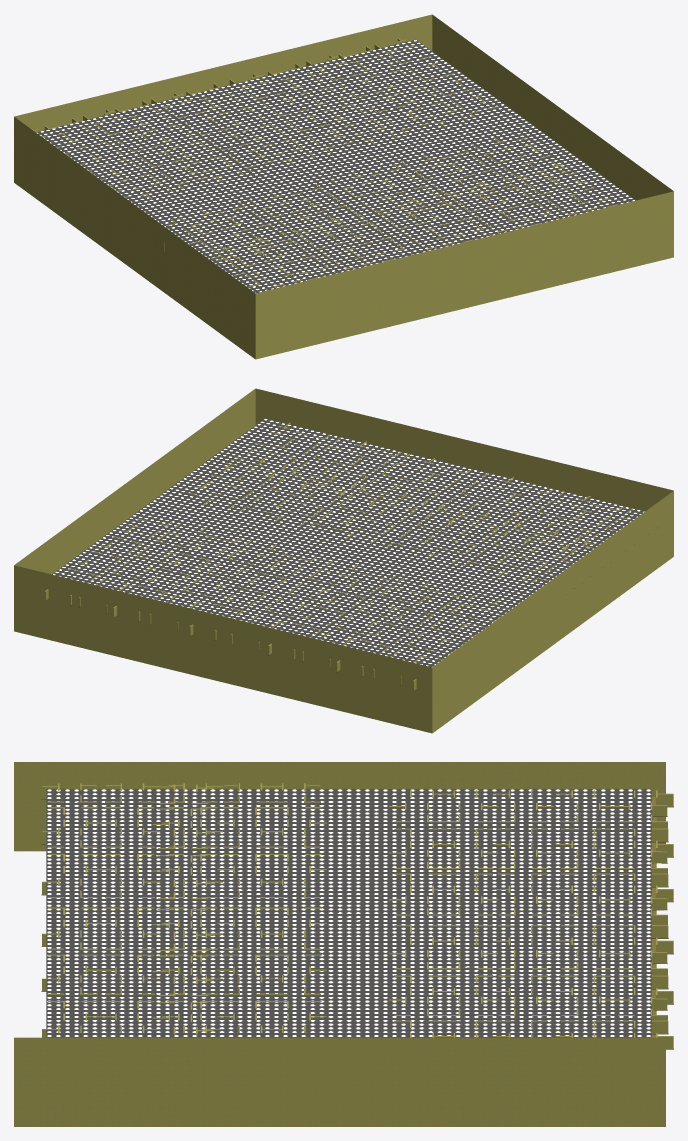
The model's file is roomlevel0.glb.
The picture shows the model from 3 angles, top to bottom: view 1: azimuth 30°, elevation 25°; view 2: azimuth 150°, elevation 25°; view 3: azimuth 270°, elevation 25°; orthographic projection. The views are drawn at different scales.
Parts seen in each view (by area): view 1: Plane.002_1, Cube_9, Cube.007_10, Cube.009_12, Cube.004_6, Cube.005_7, Cube.002_4, Cube.008_11, Cube.003_5, Cube.011_13, Cube.006_8, Cube.012_14 (+1 smaller); view 2: Plane.002_1, Cube_9, Cube.009_12, Cube.001_3, Cube.002_4, Cube.008_11, Cube.011_13, Cube.004_6, Cube.005_7, Cube.003_5, Cube.006_8, Cube.012_14 (+1 smaller); view 3: Plane.002_1, Cube_9, Cube.007_10, Cube.001_3, Cube.002_4, Cube.003_5, Cube.008_11, Cube.005_7, Cube.011_13, Cube.004_6, Cube.006_8, Cube.009_12 (+1 smaller).
Part boxes in pixels (x1,y1,x2,y2): Plane.002_1: (36,39,635,293); Cube_9: (14,14,673,359); Cube.007_10: (30,38,414,137); Cube.009_12: (80,73,462,175); Cube.004_6: (184,161,571,272); Cube.005_7: (163,146,550,257); Cube.002_4: (207,178,594,289); Cube.008_11: (56,56,439,158); Cube.003_5: (213,163,576,262); Cube.011_13: (100,88,482,189); Cube.006_8: (147,137,535,245); Cube.012_14: (110,97,497,198); Plane.002_1: (52,418,644,667); Cube_9: (14,388,673,733); Cube.009_12: (92,542,479,644); Cube.001_3: (270,422,657,533); Cube.002_4: (246,443,634,550); Cube.008_11: (69,559,456,660); Cube.011_13: (113,527,500,629); Cube.004_6: (223,460,611,567); Cube.005_7: (202,474,590,582); Cube.003_5: (224,456,594,551); Cube.006_8: (187,485,574,594); Cube.012_14: (129,519,510,616); Plane.002_1: (46,789,651,1037); Cube_9: (14,762,665,1126); Cube.007_10: (613,790,673,1049); Cube.001_3: (41,783,102,1037); Cube.002_4: (99,783,160,1032); Cube.003_5: (152,784,213,1034); Cube.008_11: (555,790,616,1037); Cube.005_7: (217,783,277,1032); Cube.011_13: (437,790,498,1037); Cube.004_6: (162,783,222,1032); Cube.006_8: (266,783,326,1032); Cube.009_12: (492,790,553,1037).
Size of the model in its own units: 406 by 61.36 by 411.
Materials: 4 (3 with a texture image).
